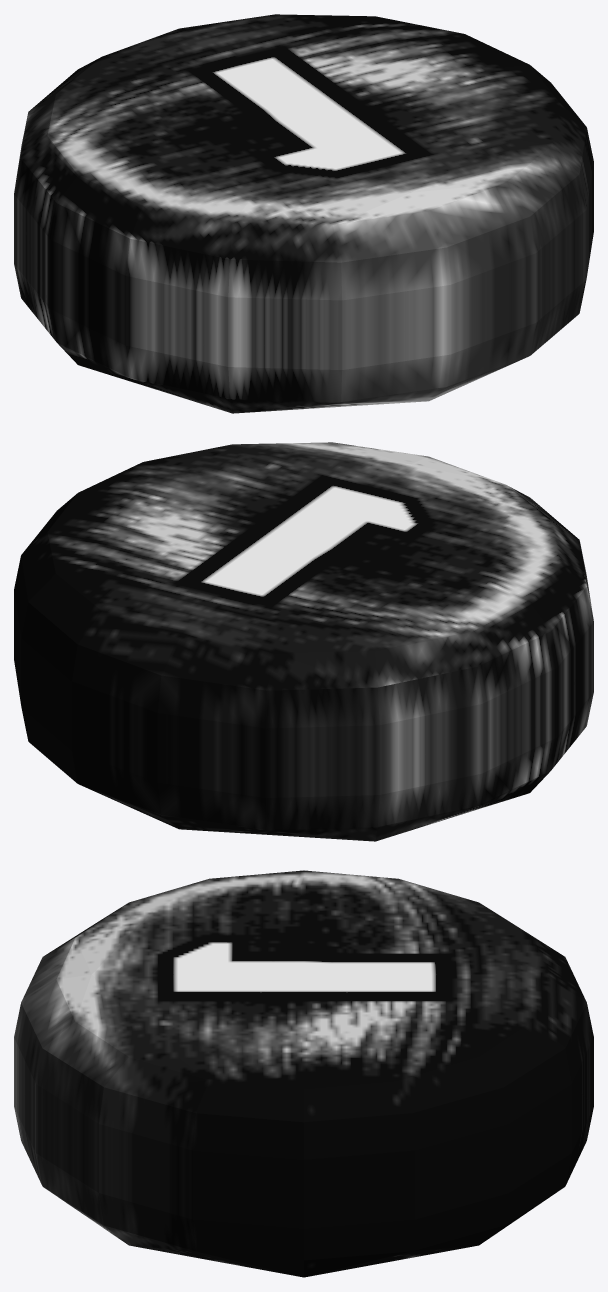
Rendered from white4.dae.
3 views of the same model, one above another, from view 1: azimuth 30°, elevation 25°; view 2: azimuth 150°, elevation 25°; view 3: azimuth 270°, elevation 25° (orthographic).
Parts seen in each view (by area): view 1: m0; view 2: m0; view 3: m0.
Part boxes in pixels (x1=…): m0: x1=14, y1=14, x2=593, y2=413; m0: x1=14, y1=442, x2=593, y2=841; m0: x1=14, y1=870, x2=593, y2=1277.
Bounding box in the file's own units: 97.41 × 35.92 × 97.41.
Materials: 1 (1 with a texture image).
